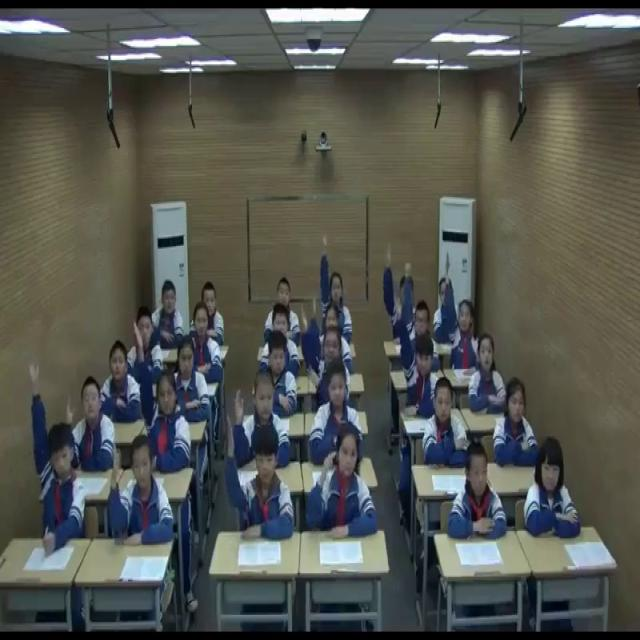focused: (308, 362, 362, 469), (451, 445, 507, 545), (528, 441, 578, 542), (493, 376, 541, 467), (422, 376, 469, 467), (101, 341, 148, 427), (173, 341, 214, 429), (260, 332, 299, 423), (126, 308, 166, 388), (469, 334, 508, 414), (191, 297, 224, 384), (262, 304, 300, 371), (150, 276, 184, 349), (267, 278, 302, 342), (196, 282, 228, 348)
raising_hand: (27, 364, 88, 554), (130, 320, 192, 472), (225, 408, 292, 542), (305, 422, 379, 539), (107, 430, 177, 549), (234, 367, 292, 473), (393, 296, 443, 414), (299, 307, 353, 409), (62, 371, 115, 473), (442, 249, 482, 370), (400, 262, 440, 374), (319, 234, 355, 348), (304, 296, 353, 375), (381, 245, 419, 345)
